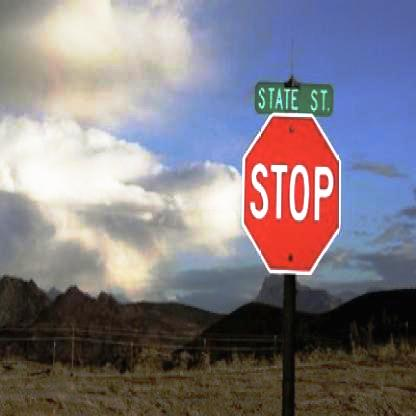Stop Sign: (237, 107, 344, 279)
